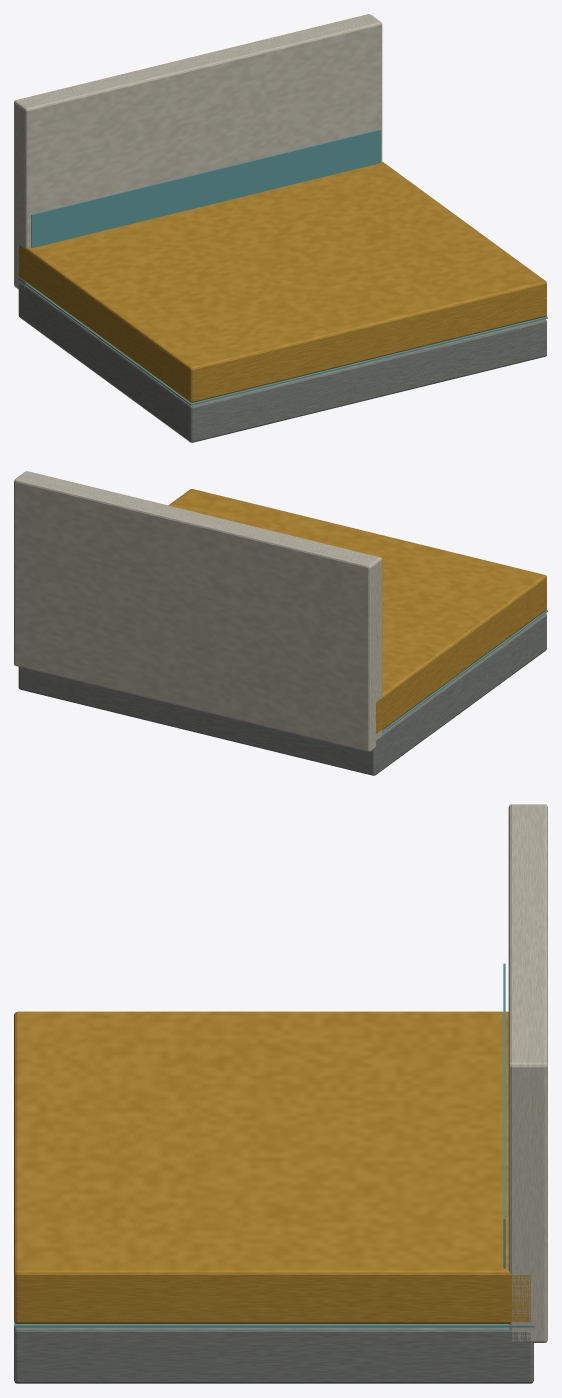
File: modell.glb
The picture shows the model from 3 angles, top to bottom: view 1: azimuth 30°, elevation 25°; view 2: azimuth 150°, elevation 25°; view 3: azimuth 270°, elevation 25°; orthographic projection. The views are drawn at different scales.
Parts seen in each view (by area): view 1: g04-daemmung_daemmung, g04-wand_, g04-untergrund_tragwerk, g04-anschluss_luftdichtheit, g04-luftdichtheit_luftdichtheit; view 2: g04-wand_, g04-daemmung_daemmung, g04-untergrund_tragwerk, g04-luftdichtheit_luftdichtheit; view 3: g04-daemmung_daemmung, g04-untergrund_tragwerk, g04-wand_, g04-luftdichtheit_luftdichtheit, g04-anschluss_luftdichtheit.
Boxes of the visible parts, x1,y1,x2,y2 form: g04-daemmung_daemmung: (19,161,546,402); g04-wand_: (14,14,382,290); g04-untergrund_tragwerk: (18,283,546,442); g04-anschluss_luftdichtheit: (31,129,380,247); g04-luftdichtheit_luftdichtheit: (17,278,547,405); g04-wand_: (14,471,382,751); g04-daemmung_daemmung: (168,489,546,733); g04-untergrund_tragwerk: (18,613,546,775); g04-luftdichtheit_luftdichtheit: (382,610,547,732); g04-daemmung_daemmung: (14,1011,530,1323); g04-untergrund_tragwerk: (14,1327,533,1383); g04-wand_: (508,804,547,1342); g04-luftdichtheit_luftdichtheit: (14,1321,533,1327); g04-anschluss_luftdichtheit: (503,963,505,1268).
Bounding box in the file's own units: 2.2 × 1.26 × 1.9.
4 materials, 3 textured.
